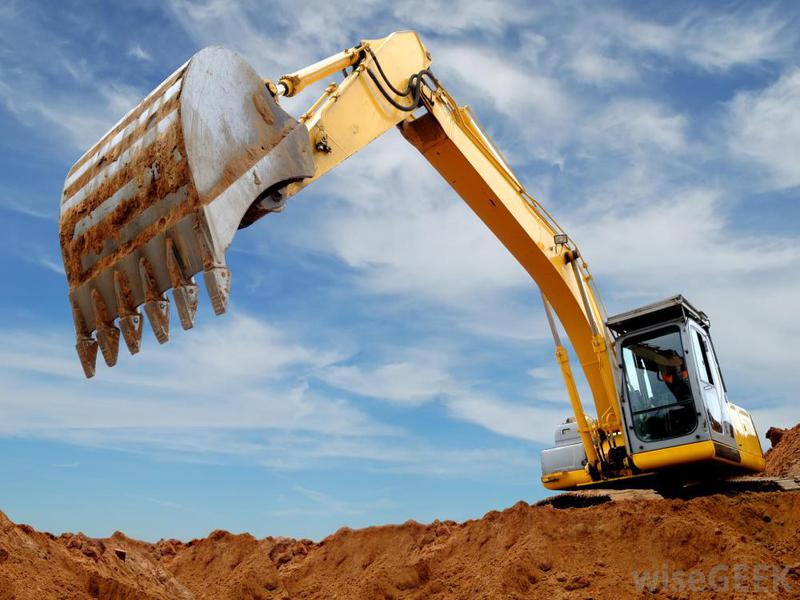shovel: (50, 25, 800, 514)
